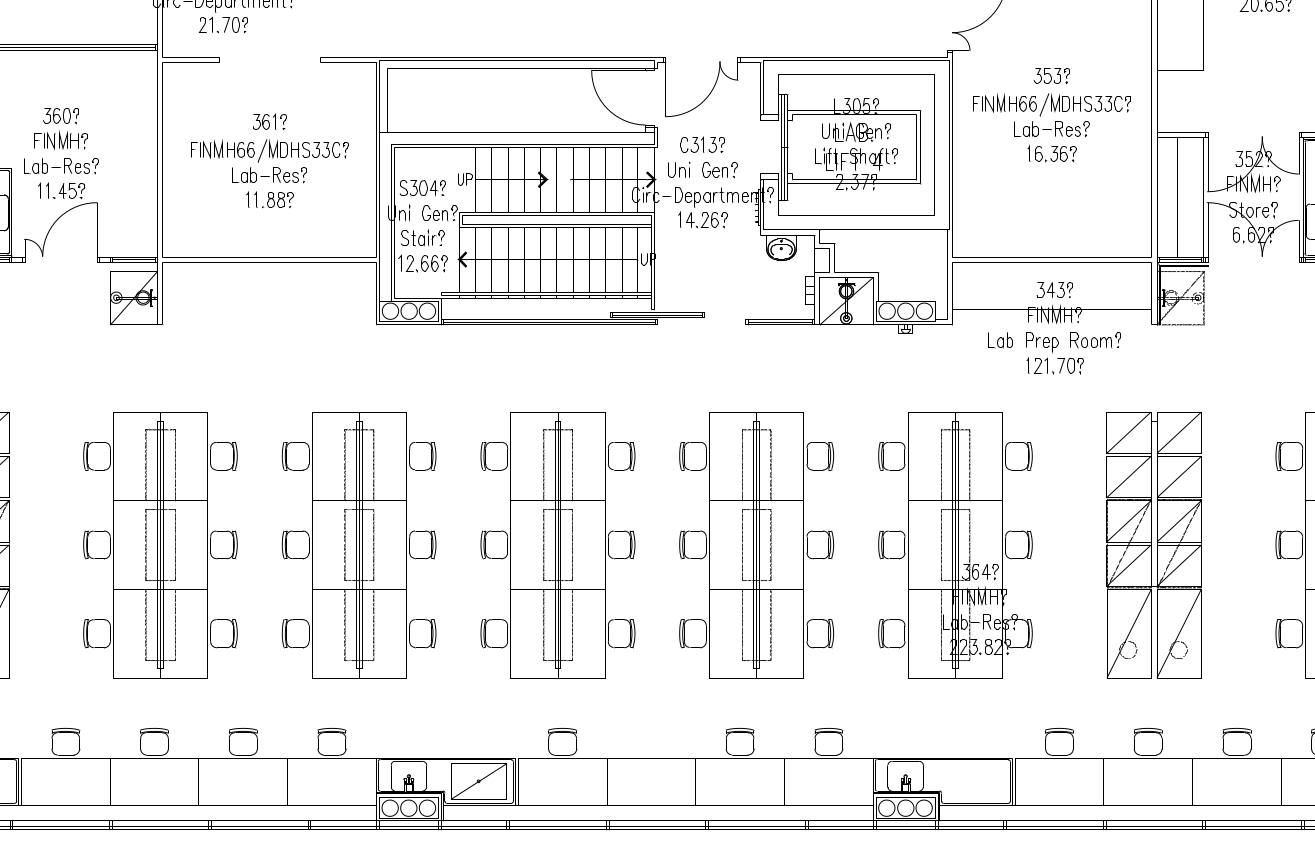door: (660, 56, 721, 123), (1206, 197, 1263, 268), (1206, 125, 1263, 196), (588, 68, 654, 128), (40, 199, 106, 259), (948, 25, 976, 55)
